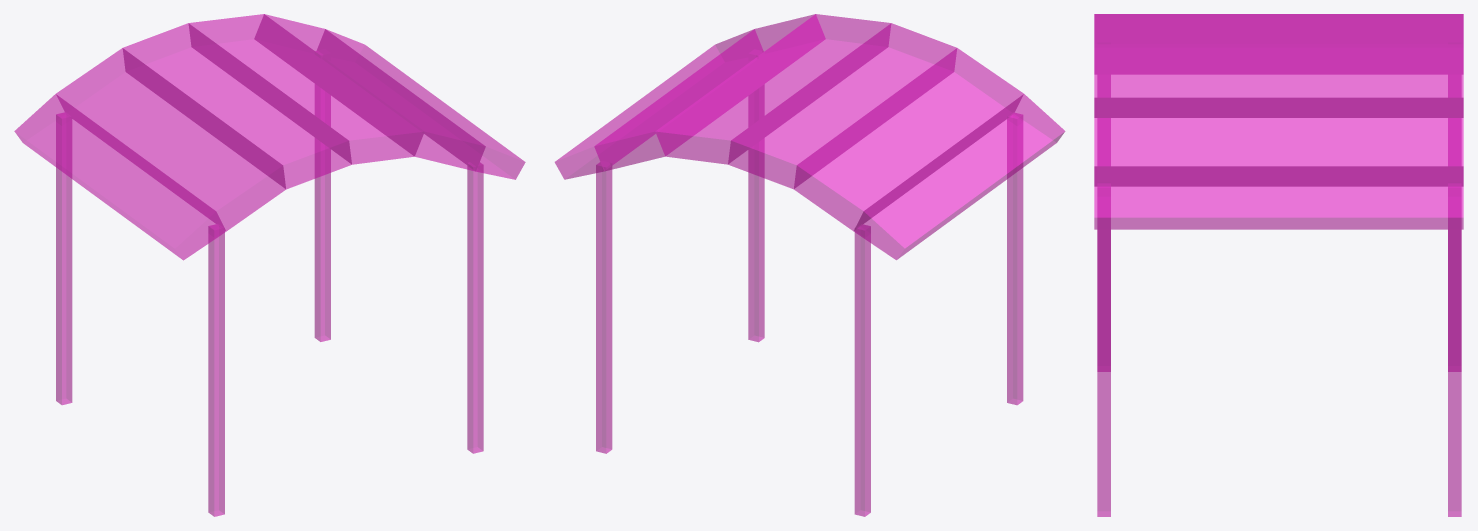
File: SM_Bld_Walkway_Railing_Roof_01_Collision.fbx
3 views of the same model, side by side, from view 1: azimuth 30°, elevation 25°; view 2: azimuth 150°, elevation 25°; view 3: azimuth 270°, elevation 25° (orthographic). The views are drawn at different scales.
Visible parts, largest first — view 1: SM_Bld_Walkway_Railing_Roof_01_Collision; view 2: SM_Bld_Walkway_Railing_Roof_01_Collision; view 3: SM_Bld_Walkway_Railing_Roof_01_Collision.
Part boxes in pixels (box(x1,y1,x2,y2)): SM_Bld_Walkway_Railing_Roof_01_Collision: box(14, 14, 525, 516); SM_Bld_Walkway_Railing_Roof_01_Collision: box(555, 14, 1065, 516); SM_Bld_Walkway_Railing_Roof_01_Collision: box(1094, 14, 1463, 516).
Bounding box in the file's own units: 321 × 302 × 255.
